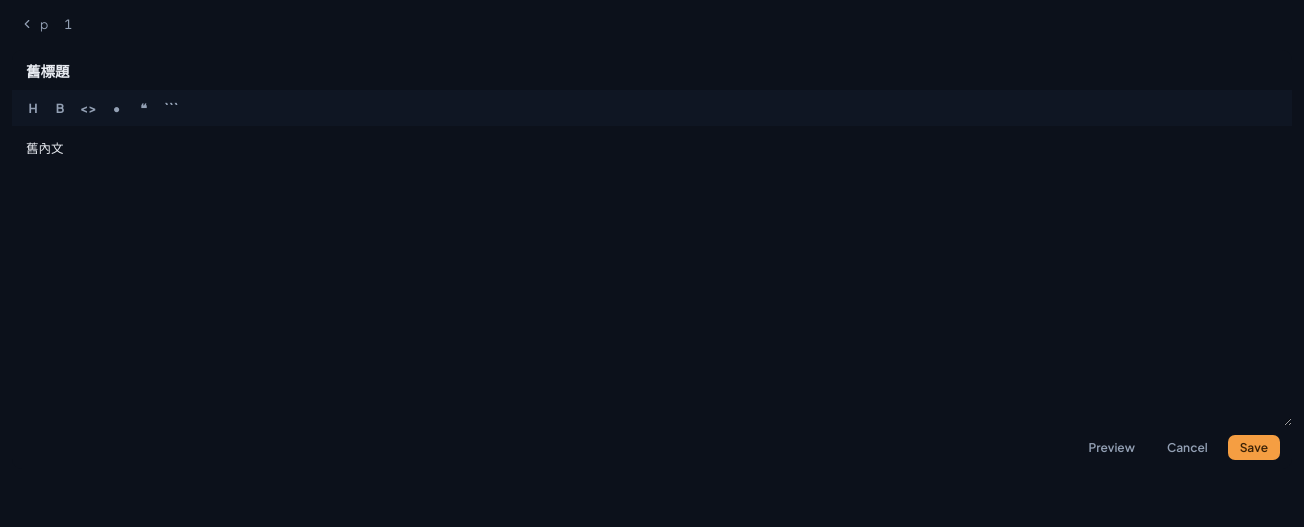
Test: TaskEditor › 400 not_editable → 顯示專屬訊息、草稿留著（whole-branch review FIX 3，spec §8 封閉列舉）
Replace the text in the text box named "Body" with "x" at (652, 276), box [12,126,1292,426]
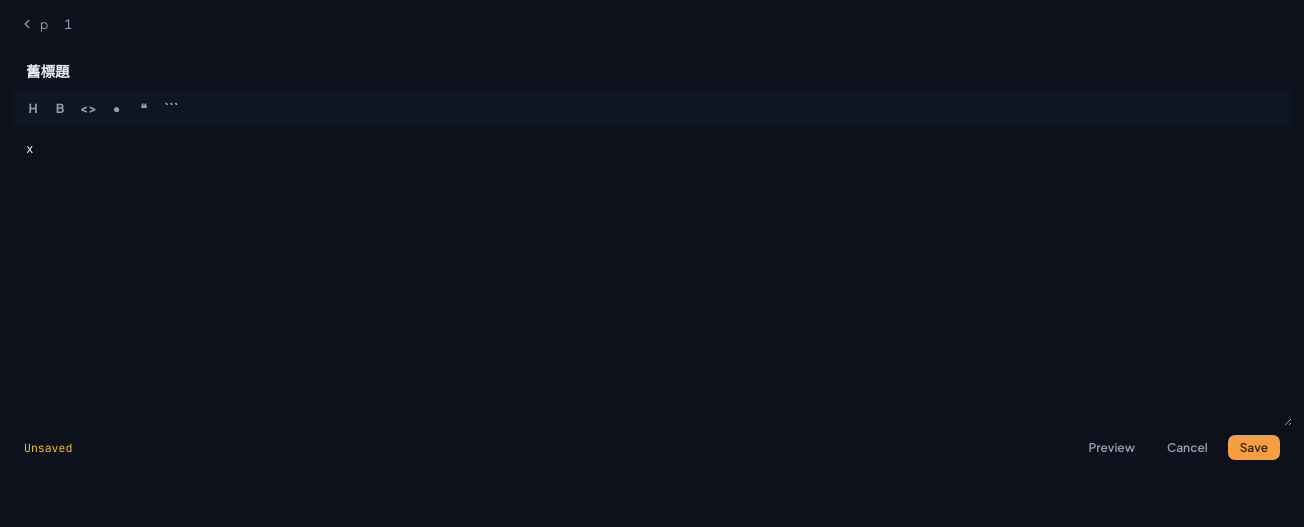
Click the button "Save" at (1254, 448), box [1228,435,1280,460]
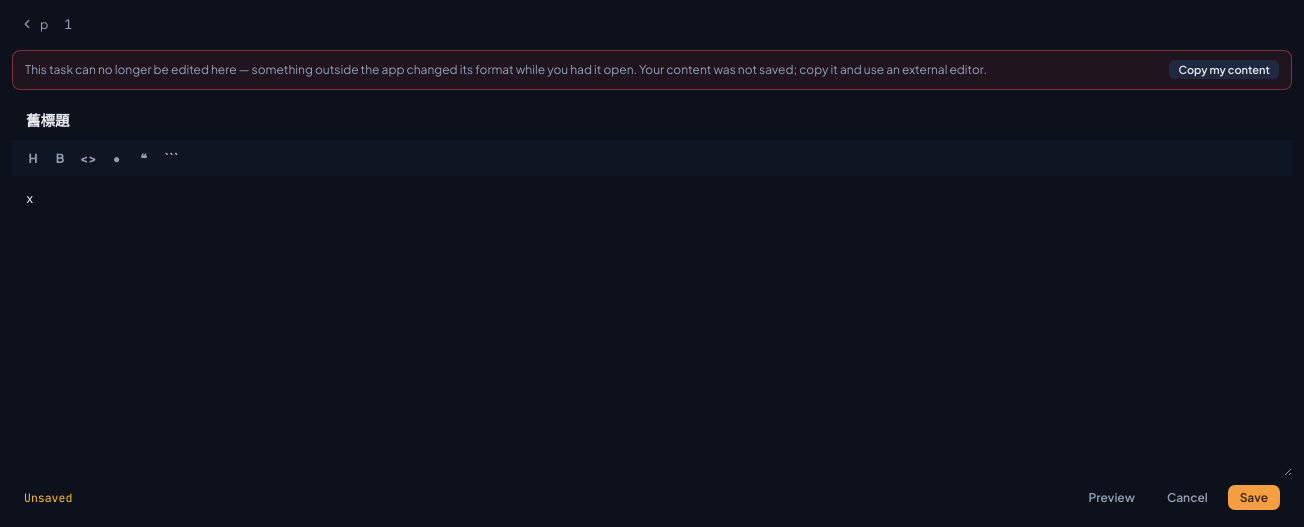
Result: the text "This task can no longer be edited here — something outside the app changed its format while you had it open. Your conten" is shown at [25,62,987,77]
